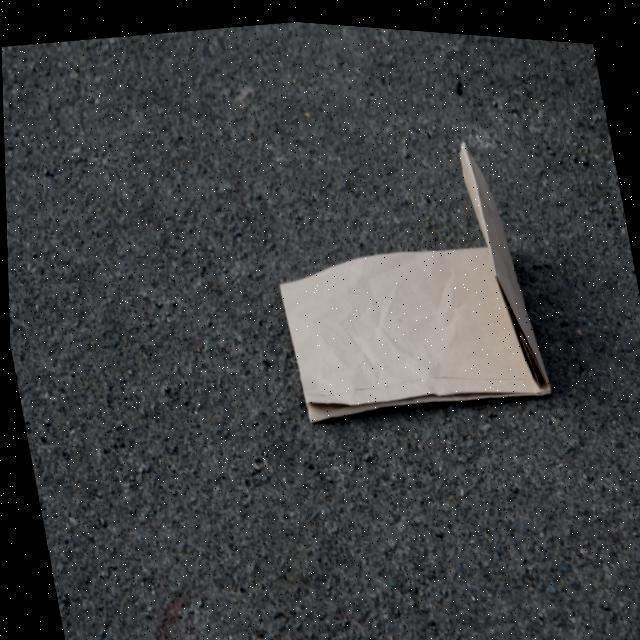Paper_Bag: (255, 115, 552, 434)
